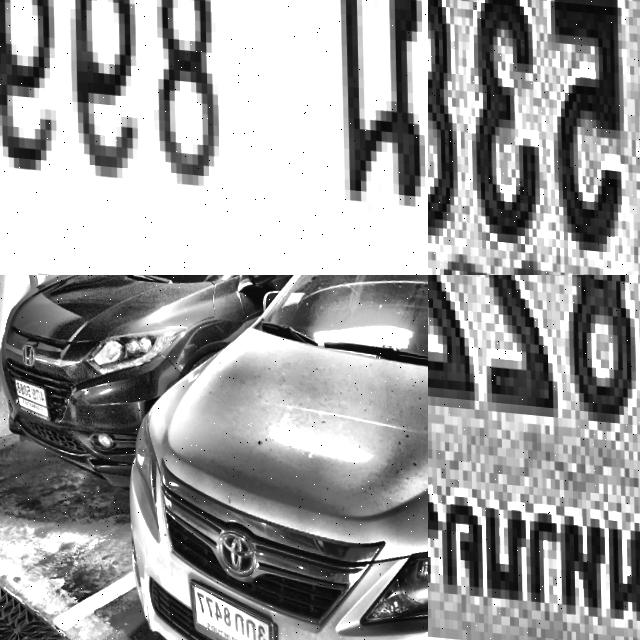license-plate: (0, 0, 428, 275), (428, 275, 640, 640), (428, 0, 640, 275), (184, 571, 277, 640), (12, 375, 47, 419)
